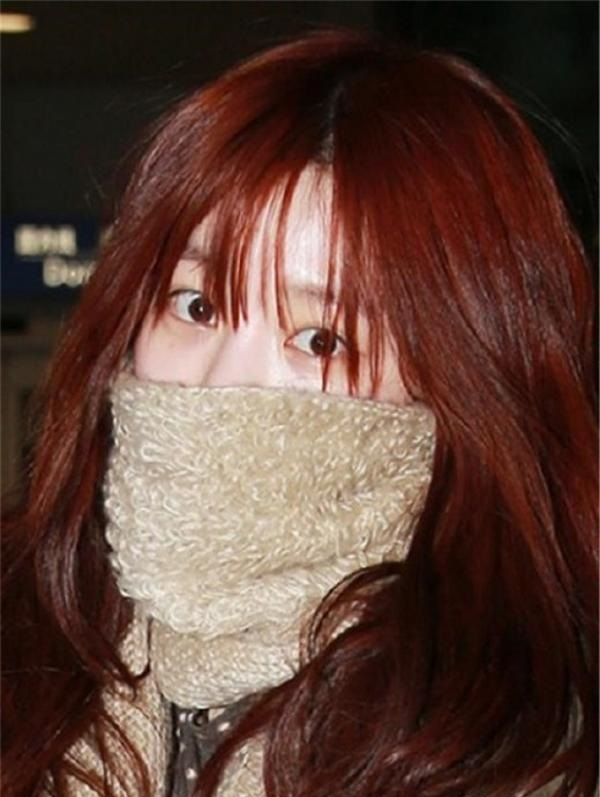face_mask: (134, 162, 409, 587)
